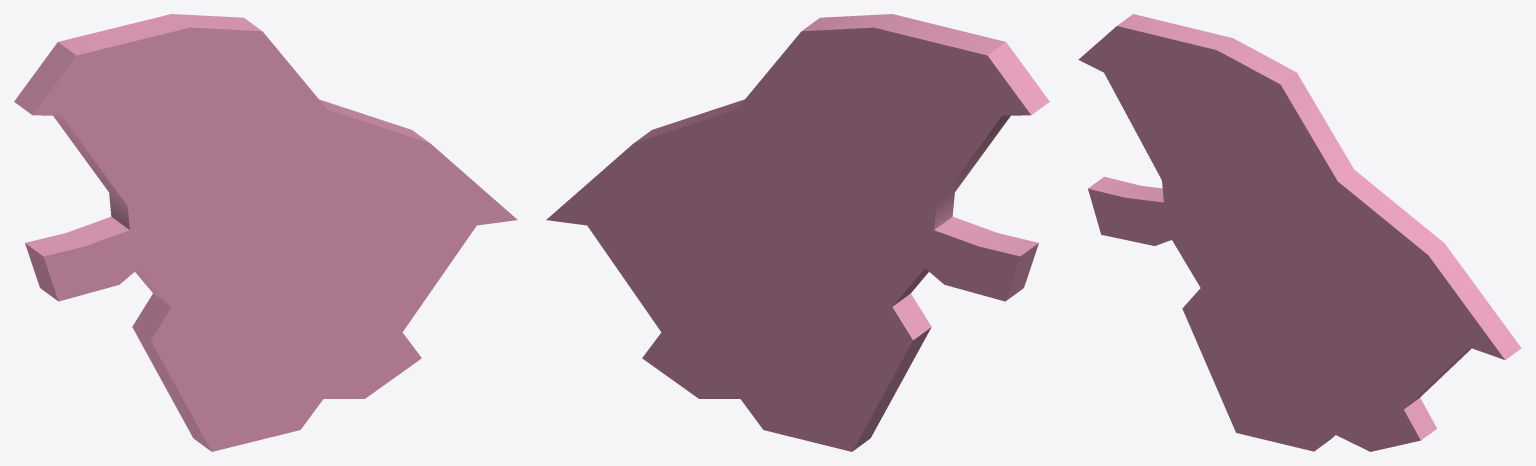
Rendered from Lerdo.fbx.
3 renders of one model, left to right at view 1: azimuth 30°, elevation 25°; view 2: azimuth 150°, elevation 25°; view 3: azimuth 330°, elevation 25°, orthographic. The views are drawn at different scales.
Parts seen in each view (by area): view 1: lerdo; view 2: lerdo; view 3: lerdo.
Boxes of the visible parts, left/top/right/bottom form: lerdo: left=14, top=14, right=517, bottom=451; lerdo: left=546, top=14, right=1049, bottom=451; lerdo: left=1078, top=14, right=1521, bottom=451.
Bounding box in the file's own units: 121 × 102 × 8.
